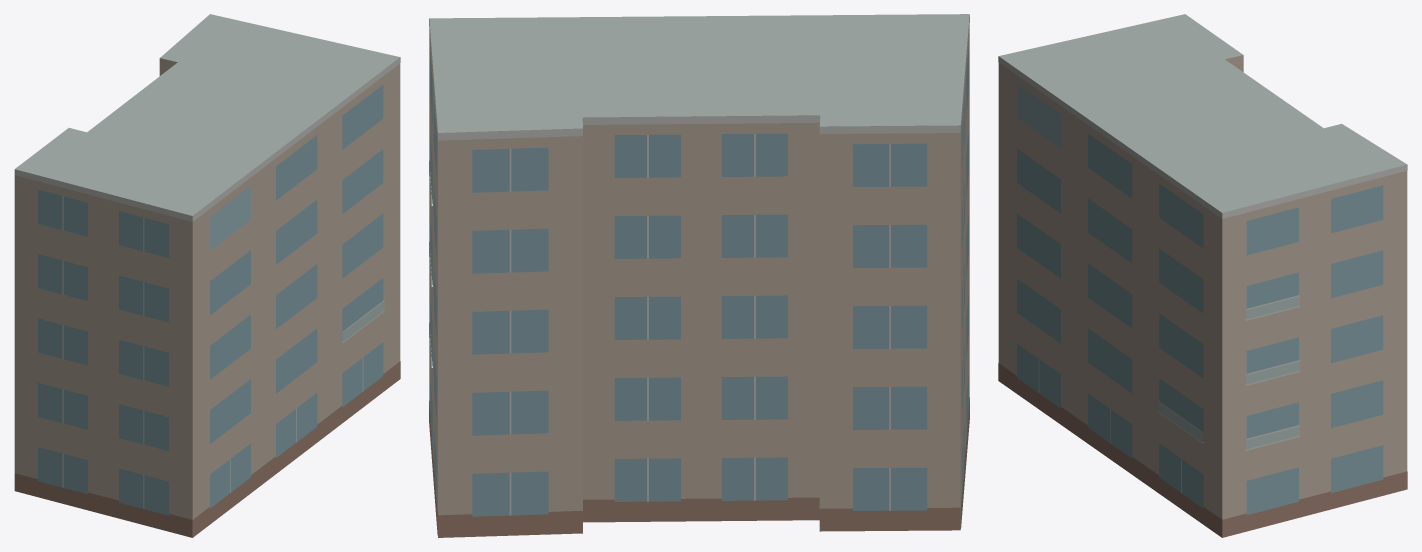
The model's file is survey-upis-32881517.glb.
The picture shows the model from 3 angles, left to right: view 1: azimuth 30°, elevation 25°; view 2: azimuth 150°, elevation 25°; view 3: azimuth 270°, elevation 25°; orthographic projection. The views are drawn at different scales.
Parts seen in each view (by area): view 1: survey-upis-32881517.tmp; view 2: survey-upis-32881517.tmp; view 3: survey-upis-32881517.tmp.
Part boxes in pixels (left/top/right/bottom): survey-upis-32881517.tmp: left=14, top=14, right=400, bottom=537; survey-upis-32881517.tmp: left=429, top=14, right=969, bottom=537; survey-upis-32881517.tmp: left=998, top=14, right=1407, bottom=537.
Size of the model in its own units: 17.22 by 13.1 by 14.96.
